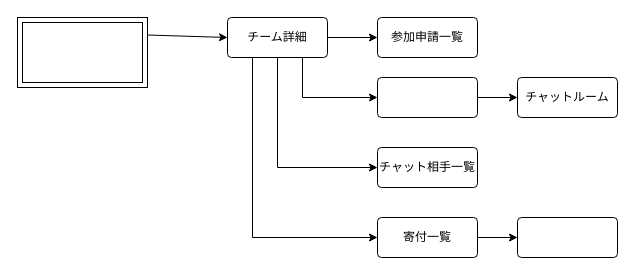
Image size: 635x275. Some labels were removed from this diagram. The shapes that lost their labels are listed below. From the top down, each one's centre as x and y in pixels, then its label:
the point at 82,52: トップページ
the point at 427,97: ユーザー詳細
the point at 567,237: 寄付画面
